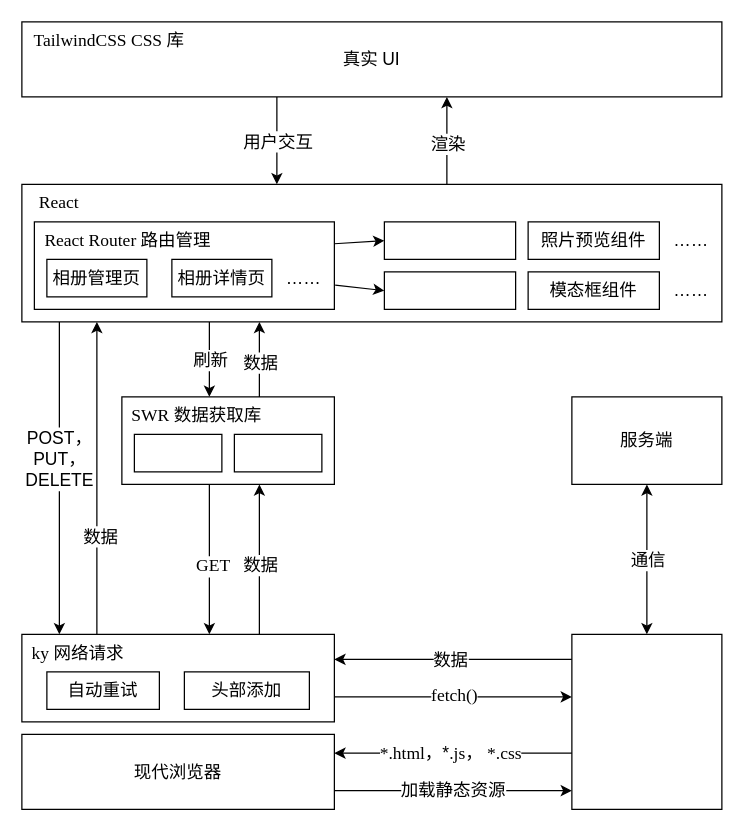
Image size: 744x831. Some labels were removed from this diagram. Here are the shapes that lost their labels. From the top down, the centre of each, then its label:
At pixel 449 240: "相册卡片组件".
At pixel 449 290: "按钮组件".
At pixel 177 452: "自动更新".
At pixel 277 452: "数据校验".
At pixel 646 721: "反向代理".
